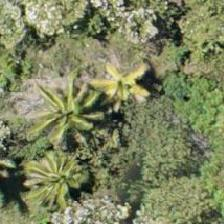coconut_tree: (79, 37, 169, 127), (14, 128, 104, 218), (26, 65, 116, 155)
